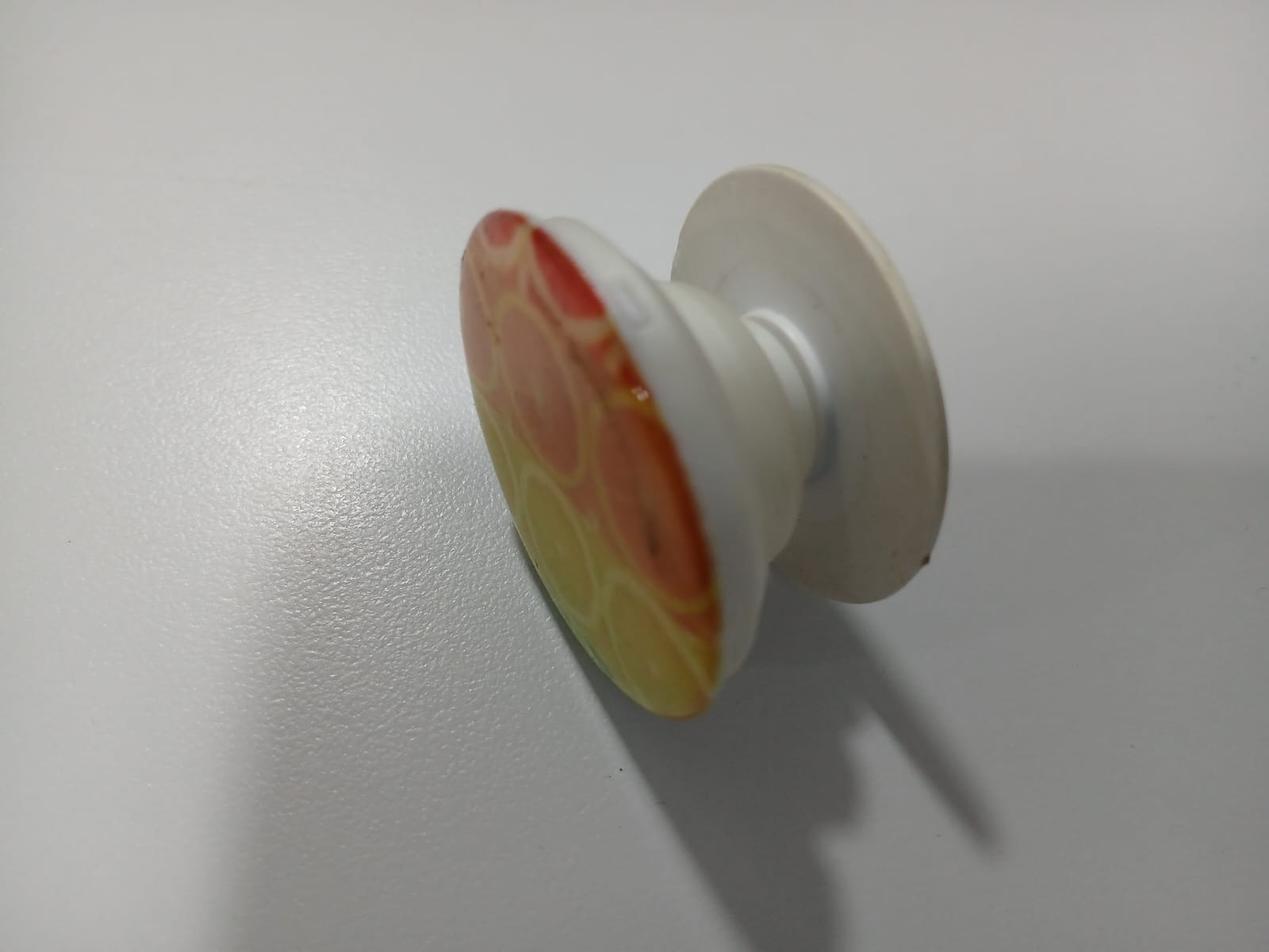Ordinario: (462, 165, 948, 718)
